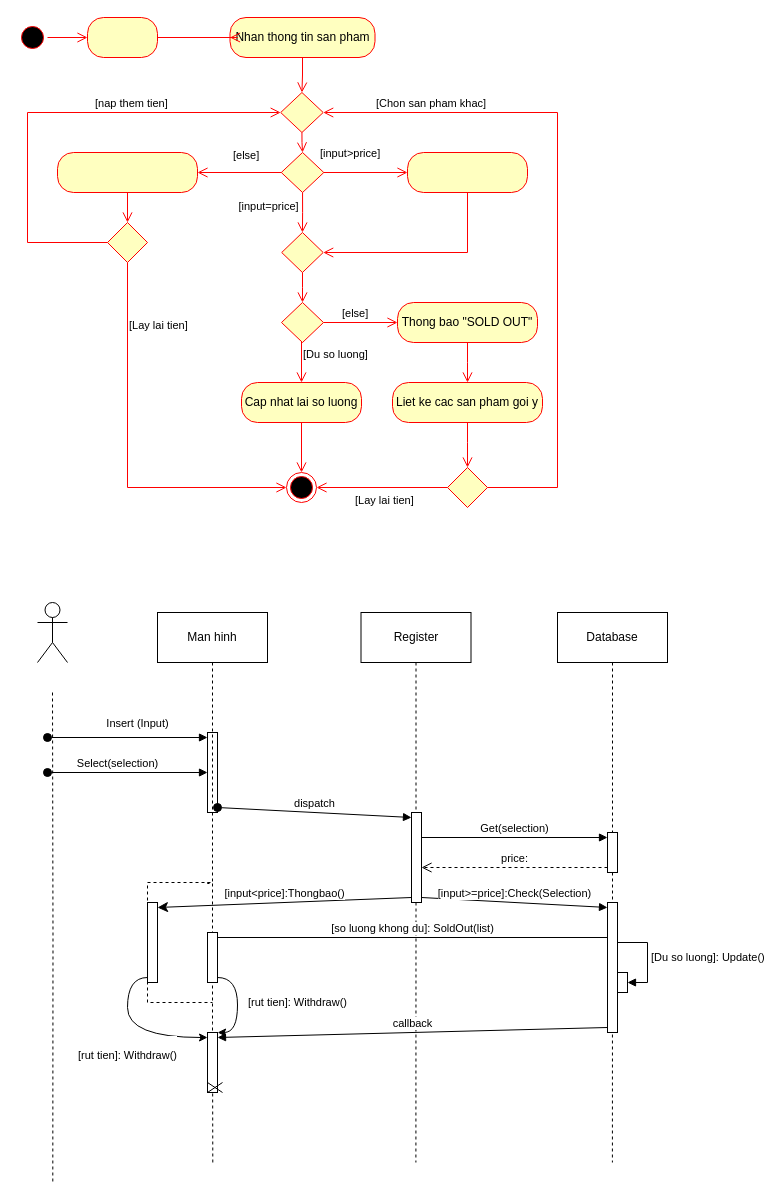
Image size: 783x1201. Some labels were removed from this diagram. The centre of each missing label's shape, as x and y in pixels:
Nhan tien: (122,37)
Object1: (52,632)
Thong bao khong du tien: (127,172)
Tinh so tien du: (467,172)
